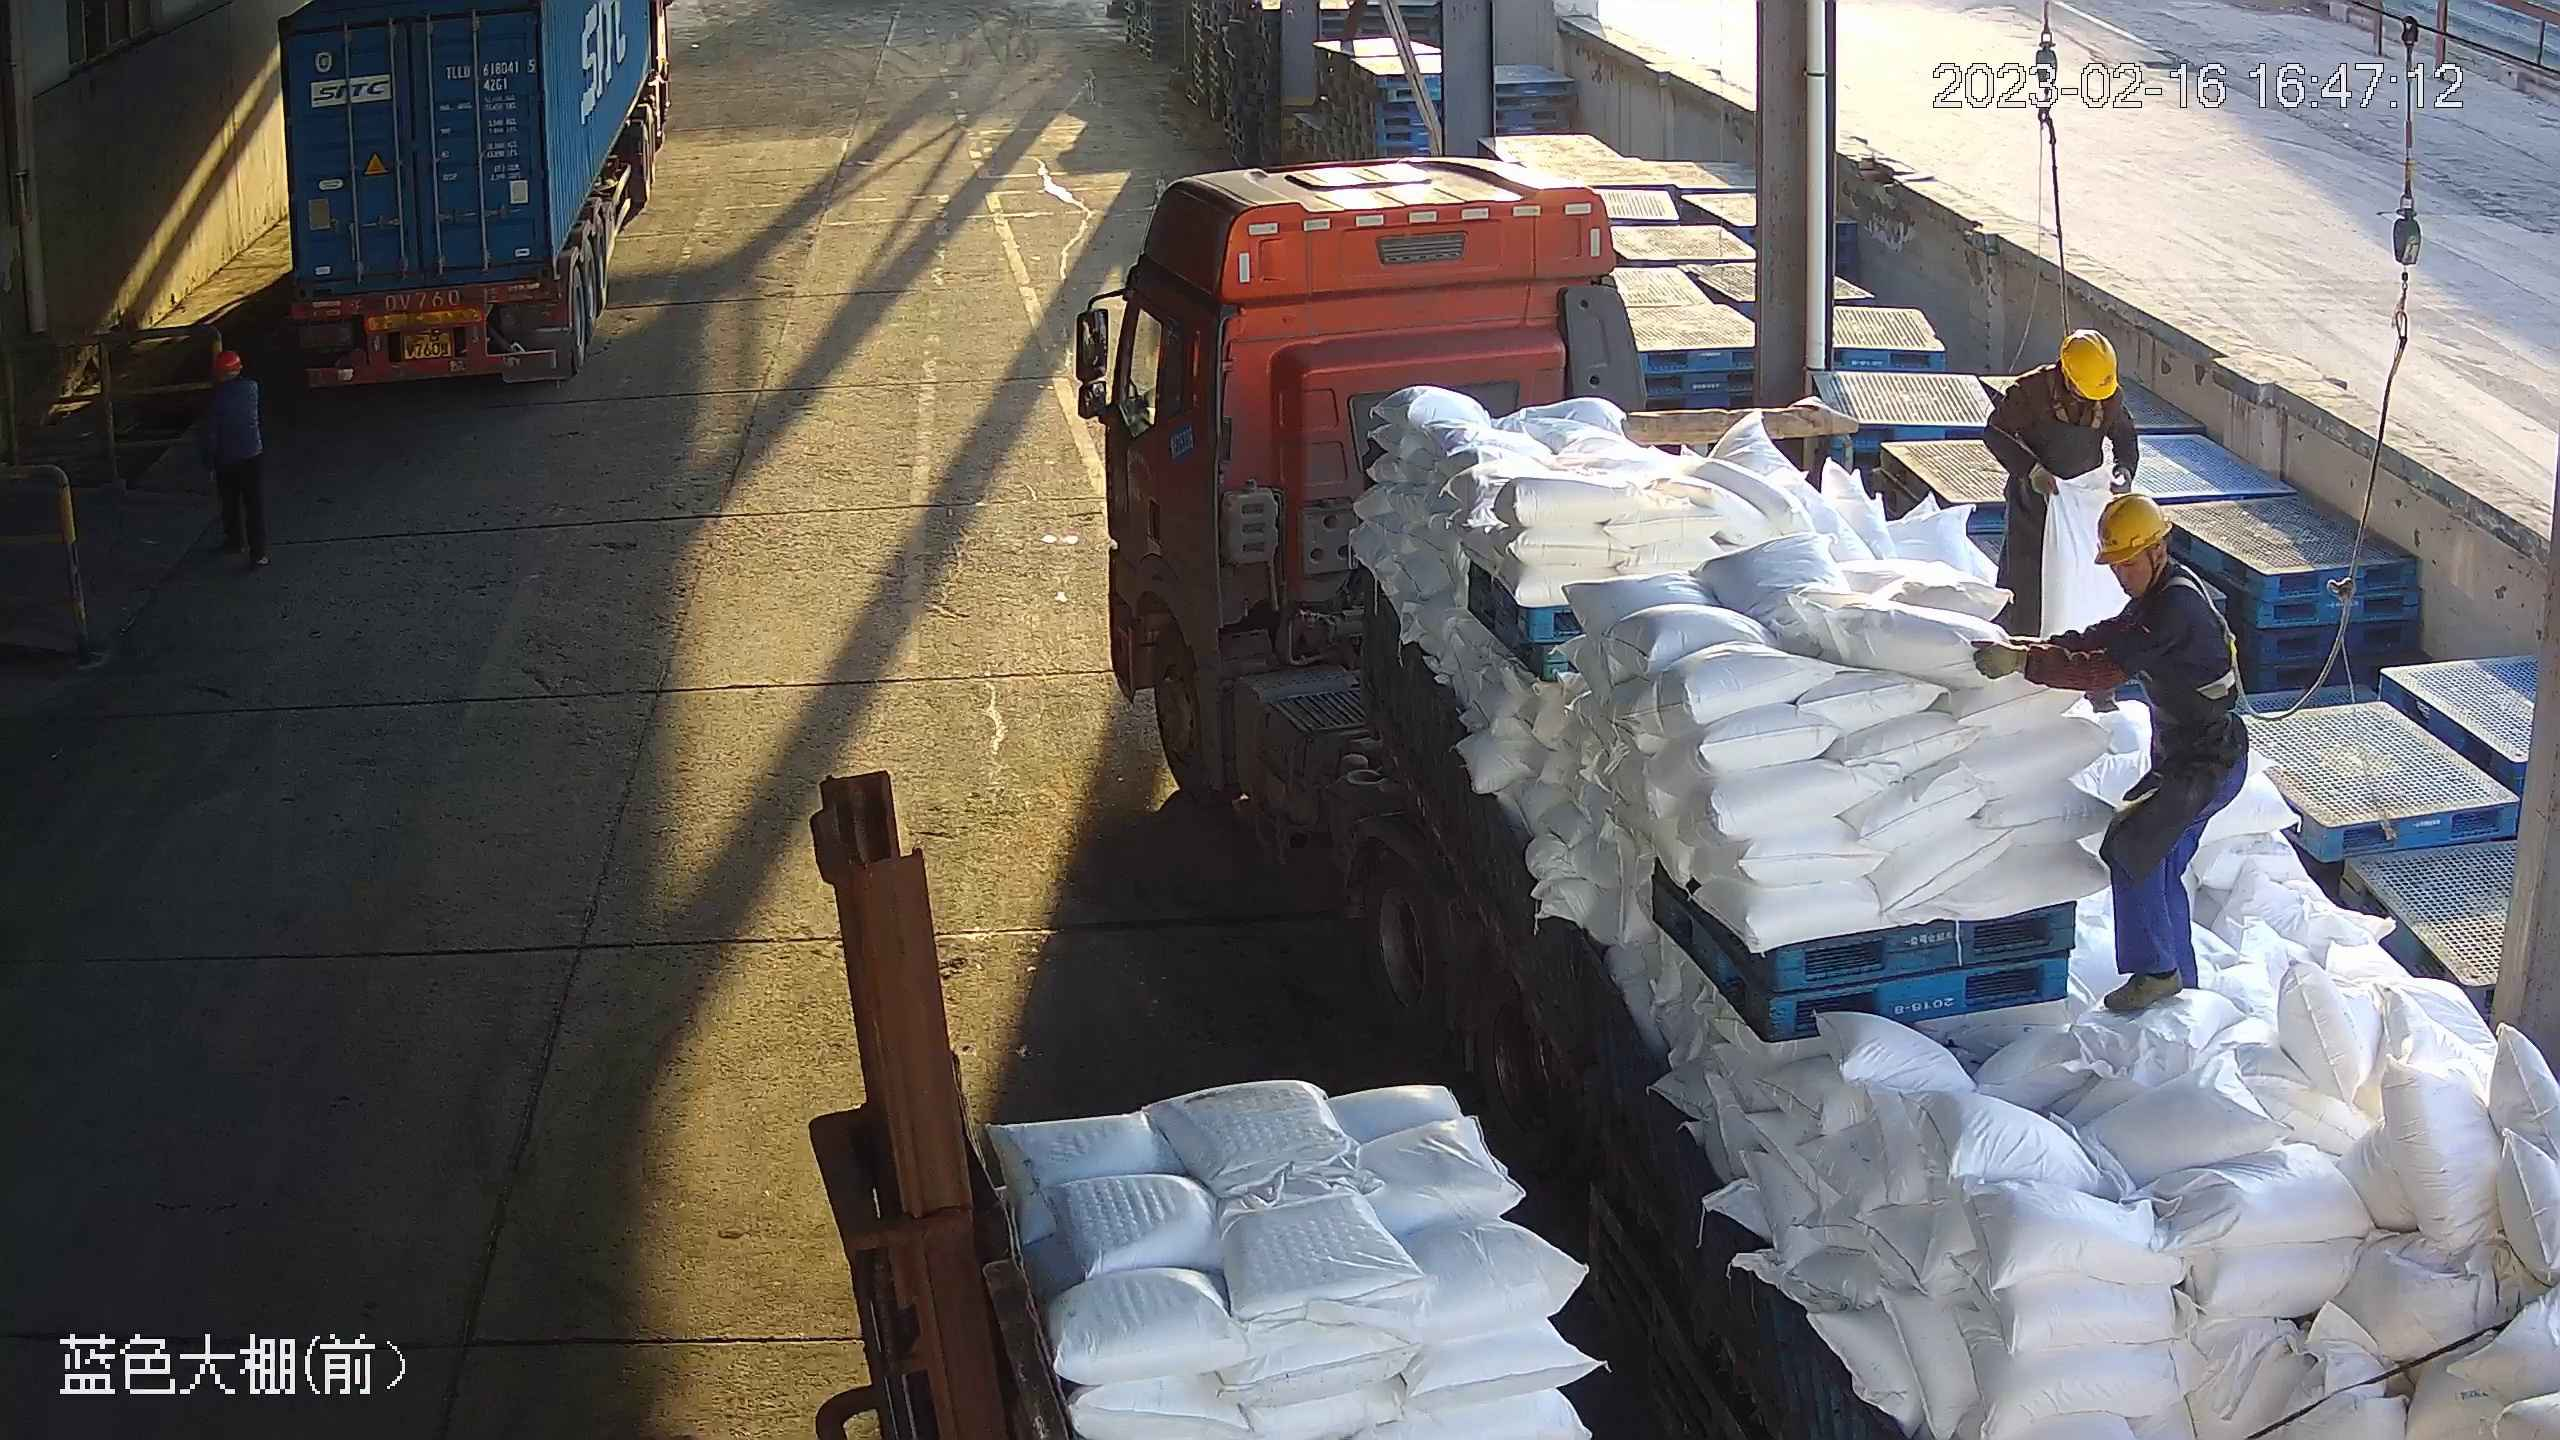belt: (2171, 564, 2252, 703), (2034, 366, 2127, 435)
head: (2066, 494, 2229, 688), (2003, 332, 2134, 467), (200, 352, 271, 423)
helmet: (2093, 493, 2179, 571), (2058, 332, 2122, 398), (215, 347, 239, 372)
people: (1968, 488, 2253, 1018), (1981, 328, 2144, 635), (200, 350, 278, 576)
truck: (1067, 156, 2560, 1440), (269, 1, 679, 408)
